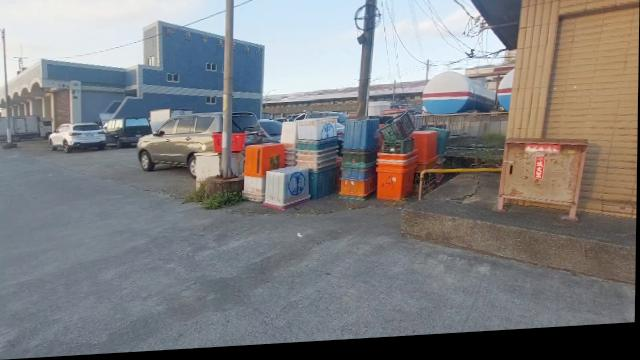pollute: (241, 115, 452, 217), (191, 155, 221, 191), (232, 135, 247, 155), (232, 155, 245, 178), (212, 136, 223, 155)
